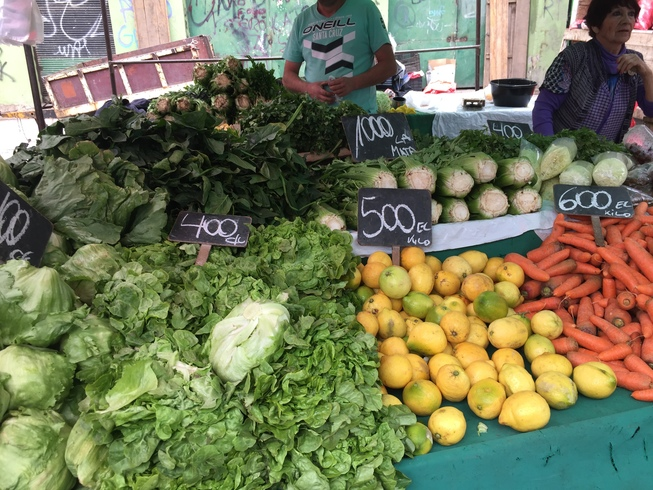precio: (163, 203, 265, 264), (353, 187, 442, 254), (554, 179, 638, 229), (341, 111, 423, 159), (486, 114, 546, 156)
